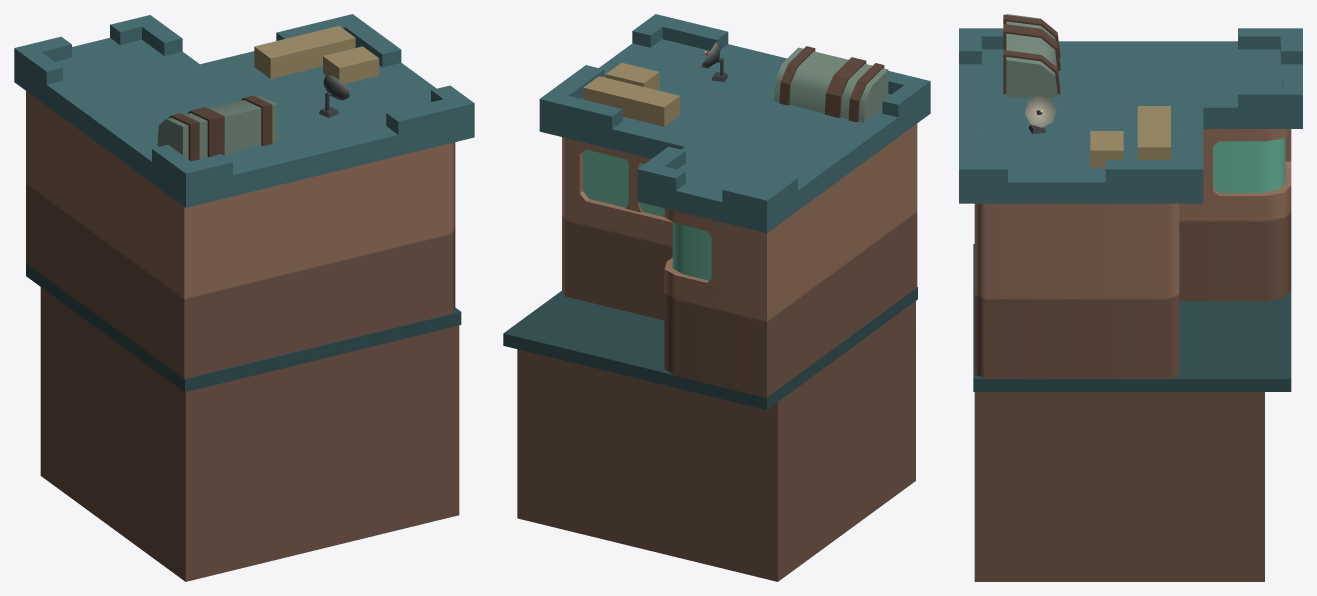
The model's file is West_House_06.fbx.
3 renders of one model, left to right at view 1: azimuth 30°, elevation 25°; view 2: azimuth 150°, elevation 25°; view 3: azimuth 270°, elevation 25°, orthographic. The views are drawn at different scales.
Parts seen in each view (by area): view 1: West_House_06; view 2: West_House_06; view 3: West_House_06.
Boxes of the visible parts, box(x1,y1,x2,y2) form: West_House_06: box(14, 14, 474, 581); West_House_06: box(503, 14, 930, 581); West_House_06: box(959, 14, 1302, 581).
Bounding box in the file's own units: 23.79 × 34.85 × 24.5.
Materials: 2 (2 with a texture image).
